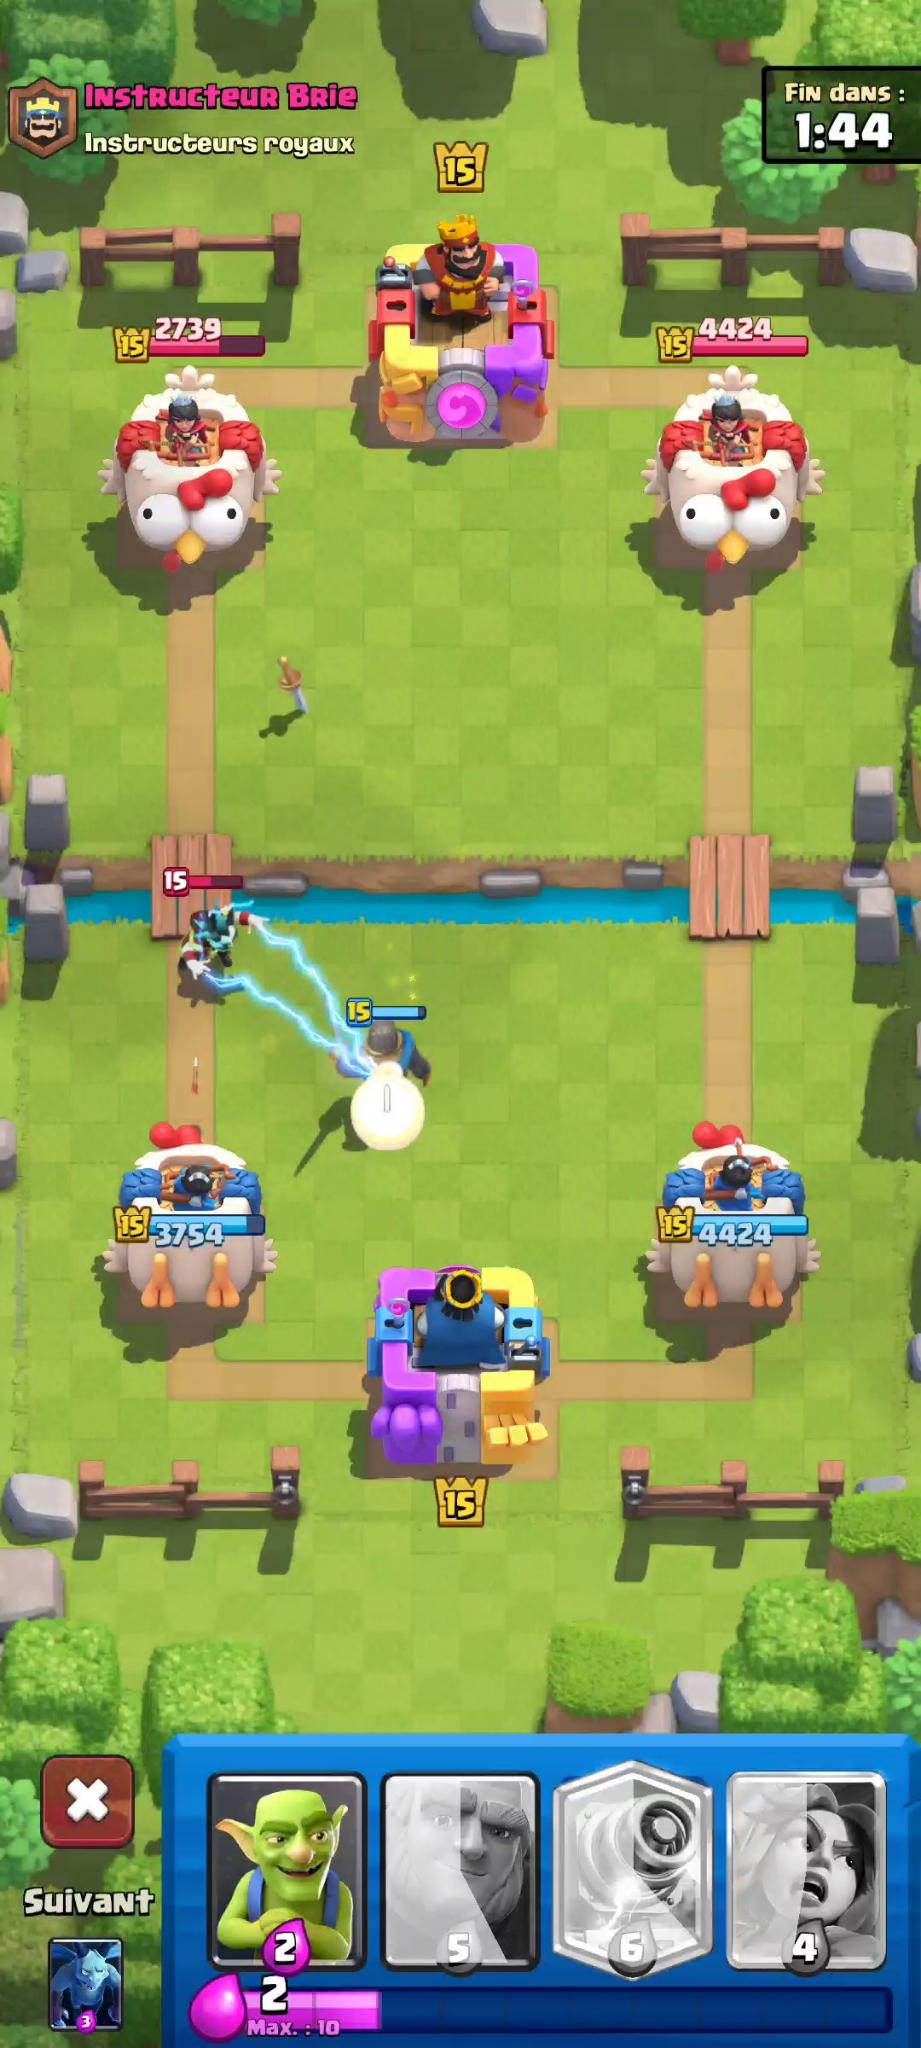chevalier: (321, 998, 444, 1119)
